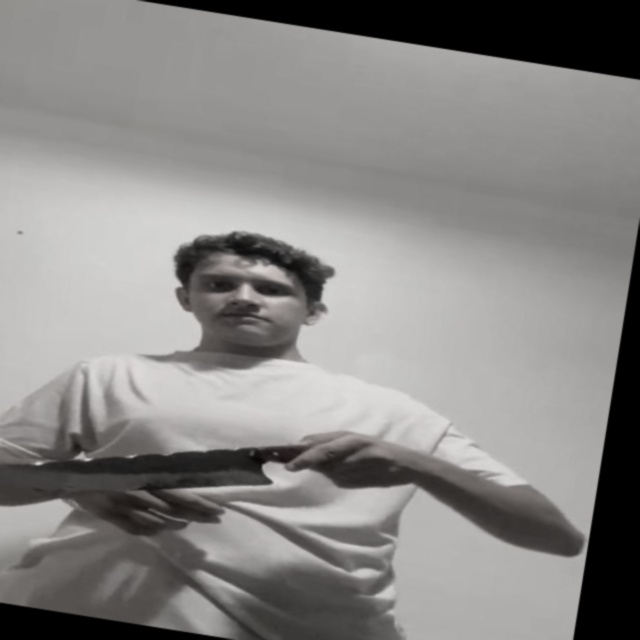Sharp-Object: (0, 408, 283, 526)
